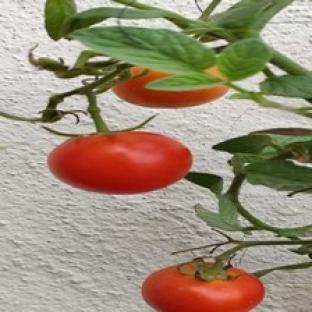Tomato: (48, 131, 192, 193), (143, 267, 264, 311), (112, 67, 228, 108)
